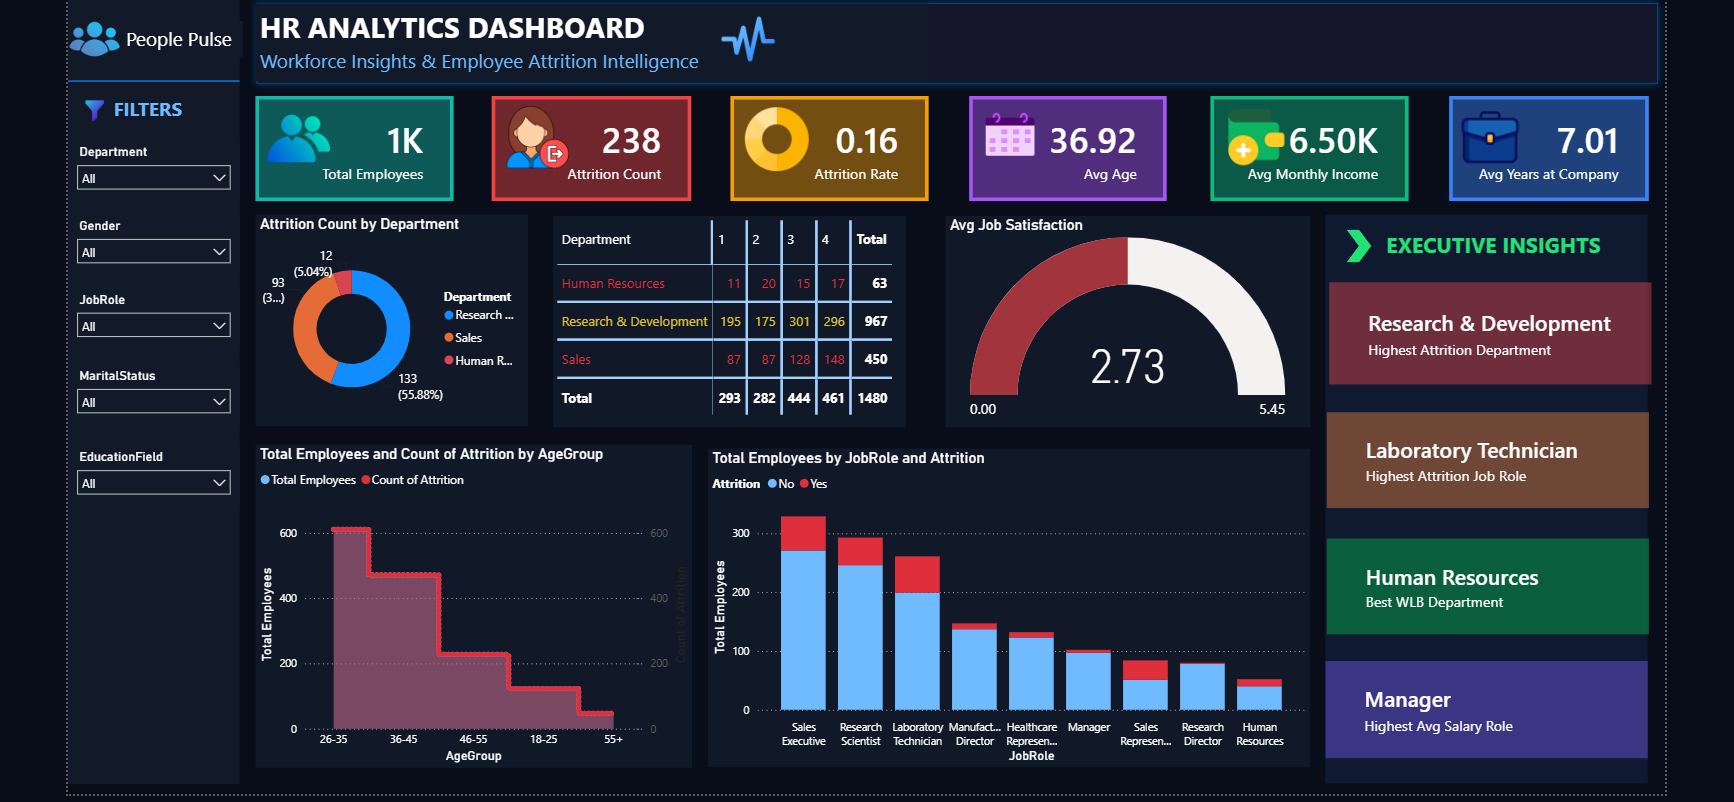

Layout of this report page (visuals, bound fields, positions):
{"tool":"powerbi","page":{"name":"Page 1","canvas":[1800,900],"ordinal":0},"visuals":[{"type":"shape","box":[0,0,193.3,888.3],"z":0},{"type":"shape","box":[204.5,0,1595.8,106.9],"z":0,"group":"g1"},{"type":"textbox","box":[211.6,8.5,758.1,53.4],"z":1000,"group":"g1"},{"type":"textbox","box":[46.5,107.6,100.3,45.2],"z":1000},{"type":"group","id":"g1","title":"Group 1","box":[204.5,0,1595.8,106.9],"z":2000},{"type":"textbox","box":[211.6,53.4,758.1,42.5],"z":2000,"group":"g1"},{"type":"image","box":[0,19.6,59.9,57.5],"z":3000},{"type":"textbox","box":[59.9,28.1,137,40.4],"z":4000},{"type":"shape","box":[0,88,193.2,17.1],"z":5000},{"type":"image","box":[14.7,117.4,31.8,24.5],"z":6000},{"type":"slicer","fields":{"Values":["HR_Analytics.Department"]},"box":[0,162.6,193.2,68.5],"z":7000},{"type":"slicer","fields":{"Values":["HR_Analytics.Gender"]},"box":[0,245.8,193.2,68.5],"z":8000},{"type":"slicer","fields":{"Values":["HR_Analytics.JobRole"]},"box":[0,327.7,193.2,66],"z":9000},{"type":"slicer","fields":{"Values":["HR_Analytics.MaritalStatus"]},"box":[0,414.5,193.2,69.7],"z":10000},{"type":"slicer","fields":{"Values":["HR_Analytics.EducationField"]},"box":[0,506.3,193.2,70.9],"z":11000},{"type":"image","box":[721.5,17.1,90.5,63.6],"z":12000},{"type":"cardVisual","fields":{"Data":["HR_Analytics.Total Employees"]},"box":[211.1,113.1,222.9,118.2],"z":13000},{"type":"cardVisual","fields":{"Data":["HR_Analytics.Attrition Count"]},"box":[477.9,113.1,224.6,118.2],"z":14000},{"type":"cardVisual","fields":{"Data":["HR_Analytics.Attrition Rate"]},"box":[746.3,113.1,222.9,118.2],"z":15000},{"type":"cardVisual","fields":{"Data":["HR_Analytics.Avg Age"]},"box":[1016.4,112.7,222.7,118.2],"z":16000},{"type":"cardVisual","fields":{"Data":["HR_Analytics.Avg Monthly Income"]},"box":[1288.4,113.1,222.9,118.2],"z":17000},{"type":"cardVisual","fields":{"Data":["HR_Analytics.Avg Years at Company"]},"box":[1556.8,113.1,224.6,118.2],"z":18000},{"type":"donutChart","fields":{"Category":["HR_Analytics.Department"],"Y":["HR_Analytics.Attrition Count"]},"box":[210.9,246.1,307.2,238.5],"z":19000},{"type":"columnChart","fields":{"Category":["HR_Analytics.JobRole"],"Y":["HR_Analytics.Total Employees"],"Series":["HR_Analytics.Attrition"]},"box":[721.5,510.5,678.7,359.2],"z":20000},{"type":"gauge","fields":{"Y":["HR_Analytics.Avg Job Satisfaction"]},"box":[989,247.6,411.2,238.5],"z":21000},{"type":"areaChart","fields":{"Category":["HR_Analytics.AgeGroup"],"Y":["HR_Analytics.Total Employees"],"Y2":["CountNonNull(HR_Analytics.Attrition)"]},"box":[210.9,505.9,492.2,363.8],"z":22000},{"type":"pivotTable","fields":{"Rows":["HR_Analytics.Department"],"Columns":["HR_Analytics.JobSatisfaction"],"Values":["HR_Analytics.Total Employees"]},"box":[547.2,247.6,397.4,238.5],"z":24000},{"type":"shape","box":[1417.7,246.9,363,641],"z":25000},{"type":"textbox","box":[1481.2,259.9,273.6,55],"z":26000},{"type":"shape","box":[1441.4,262.9,27.5,36.7],"z":27000},{"type":"cardVisual","fields":{"Data":["HR_Analytics.Highest Avg Salary Role"]},"box":[1417.6,749.6,363.3,109.9],"z":28000},{"type":"cardVisual","fields":{"Data":["HR_Analytics.Best WLB Department"]},"box":[1419.4,611.3,363.3,108.1],"z":29000},{"type":"cardVisual","fields":{"Data":["HR_Analytics.Highest Attrition Job Role"]},"box":[1419.4,469.6,363.3,108.1],"z":30000},{"type":"cardVisual","fields":{"Data":["HR_Analytics.Highest Attrition Department"]},"box":[1421.2,322.5,363.3,115.2],"z":32000},{"type":"image","box":[222.4,125.9,75.2,70],"z":32001},{"type":"image","box":[492.2,124.3,75.2,70.3],"z":32002},{"type":"image","box":[745.6,125.9,96.5,71.9],"z":32003},{"type":"image","box":[1023.6,124.3,75.2,70.3],"z":32004},{"type":"image","box":[1301.6,124.3,75.2,70.3],"z":32005},{"type":"image","box":[1564.9,124.3,75.2,70.3],"z":32006}]}

Visuals, with their boxes on the page's 1800x900 design canvas (x1, y1, x2, y2). These are canvas units, not pixel positions in the 1734x802 screenshot, which may show the page scaled, cropped or inside an application window:
shape: 0,0,193,888
shape: 204,0,1800,107
textbox: 212,8,970,62
textbox: 46,108,147,153
"Group 1" group: 204,0,1800,107
textbox: 212,53,970,96
image: 0,20,60,77
textbox: 60,28,197,68
shape: 0,88,193,105
image: 15,117,46,142
slicer - HR_Analytics.Department: 0,163,193,231
slicer - HR_Analytics.Gender: 0,246,193,314
slicer - HR_Analytics.JobRole: 0,328,193,394
slicer - HR_Analytics.MaritalStatus: 0,414,193,484
slicer - HR_Analytics.EducationField: 0,506,193,577
image: 722,17,812,81
cardVisual - HR_Analytics.Total Employees: 211,113,434,231
cardVisual - HR_Analytics.Attrition Count: 478,113,702,231
cardVisual - HR_Analytics.Attrition Rate: 746,113,969,231
cardVisual - HR_Analytics.Avg Age: 1016,113,1239,231
cardVisual - HR_Analytics.Avg Monthly Income: 1288,113,1511,231
cardVisual - HR_Analytics.Avg Years at Company: 1557,113,1781,231
donutChart - HR_Analytics.Department x HR_Analytics.Attrition Count: 211,246,518,485
columnChart - HR_Analytics.JobRole x HR_Analytics.Total Employees: 722,510,1400,870
gauge - HR_Analytics.Avg Job Satisfaction: 989,248,1400,486
areaChart - HR_Analytics.AgeGroup x HR_Analytics.Total Employees: 211,506,703,870
pivotTable - HR_Analytics.Department x HR_Analytics.JobSatisfaction: 547,248,945,486
shape: 1418,247,1781,888
textbox: 1481,260,1755,315
shape: 1441,263,1469,300
cardVisual - HR_Analytics.Highest Avg Salary Role: 1418,750,1781,860
cardVisual - HR_Analytics.Best WLB Department: 1419,611,1783,719
cardVisual - HR_Analytics.Highest Attrition Job Role: 1419,470,1783,578
cardVisual - HR_Analytics.Highest Attrition Department: 1421,322,1784,438
image: 222,126,298,196
image: 492,124,567,195
image: 746,126,842,198
image: 1024,124,1099,195
image: 1302,124,1377,195
image: 1565,124,1640,195
